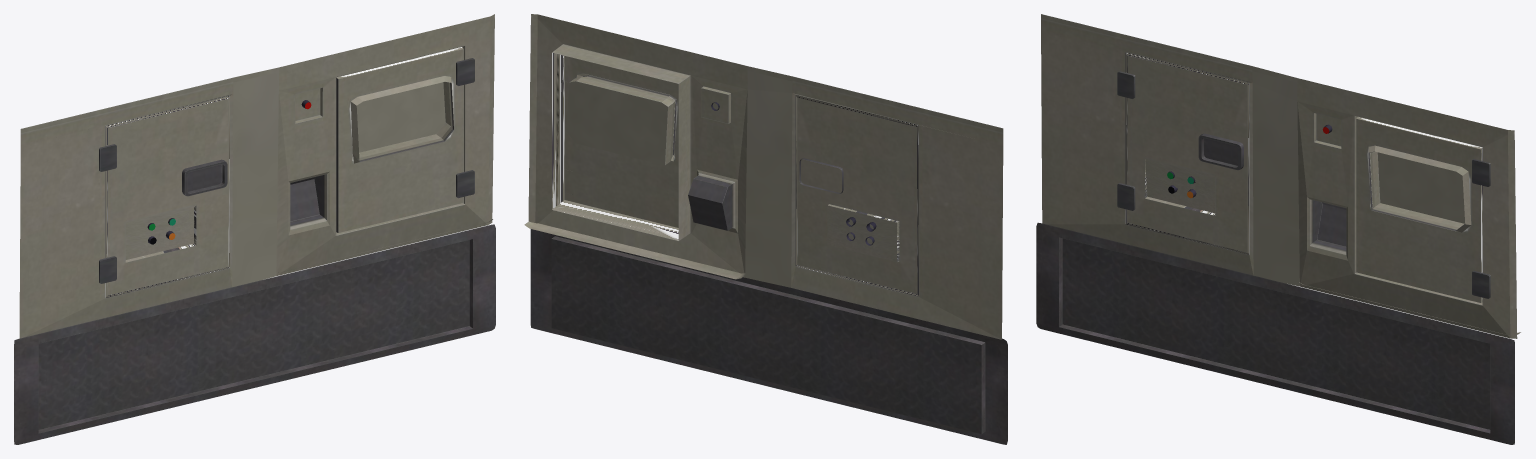
The model's file is generater op (1).fbx.
The picture shows the model from 3 angles, left to right: view 1: azimuth 30°, elevation 25°; view 2: azimuth 150°, elevation 25°; view 3: azimuth 330°, elevation 25°; orthographic projection.
Parts seen in each view (by area): view 1: generater; view 2: generater; view 3: generater.
Boxes of the visible parts, x1=… form: generater: x1=14, y1=14, x2=495, y2=444; generater: x1=524, y1=14, x2=1007, y2=444; generater: x1=1036, y1=14, x2=1520, y2=444.
Bounding box in the file's own units: 855 × 538 × 48.91.
Materials: 2 (2 with a texture image).
